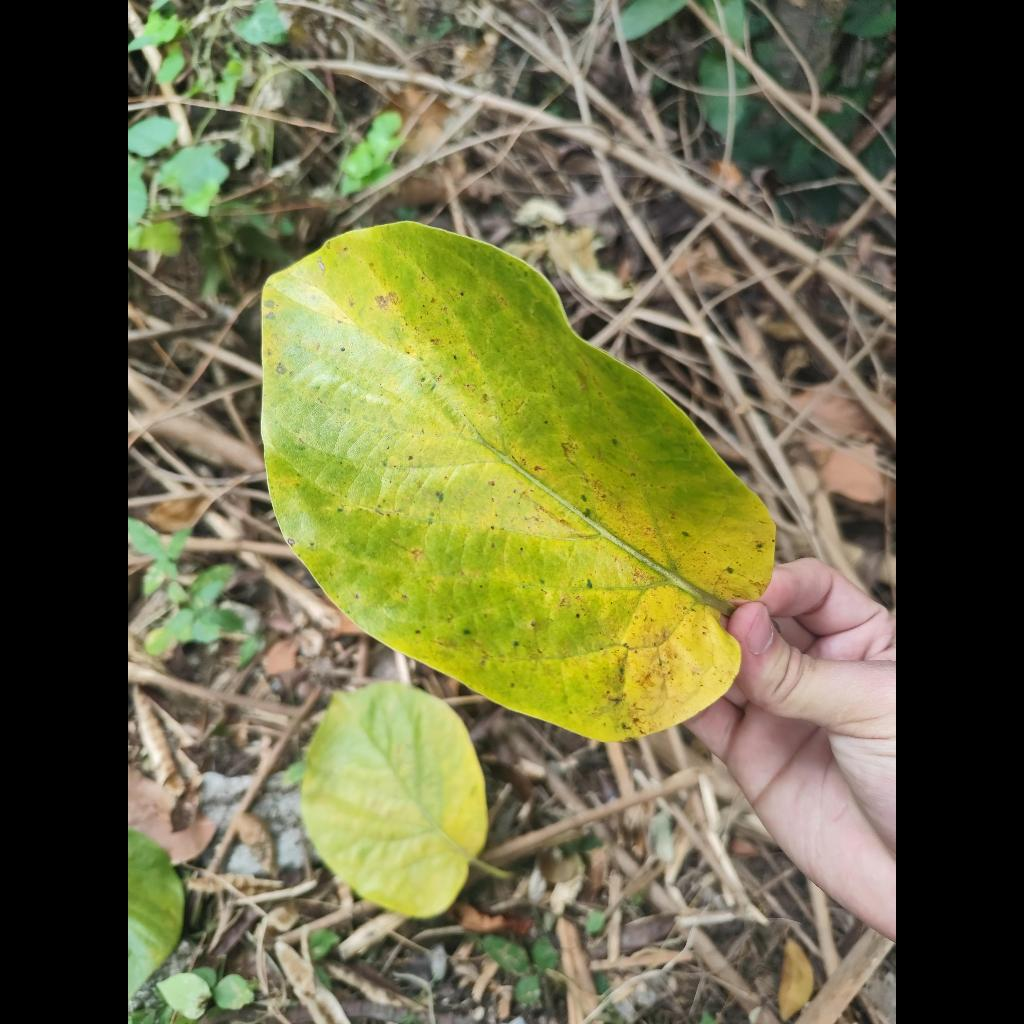deficiencia_nutricional: (262, 222, 775, 740)
